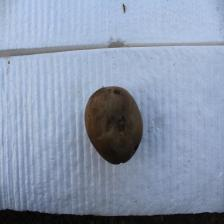Diseased-fungal potato: (83, 85, 142, 166)
